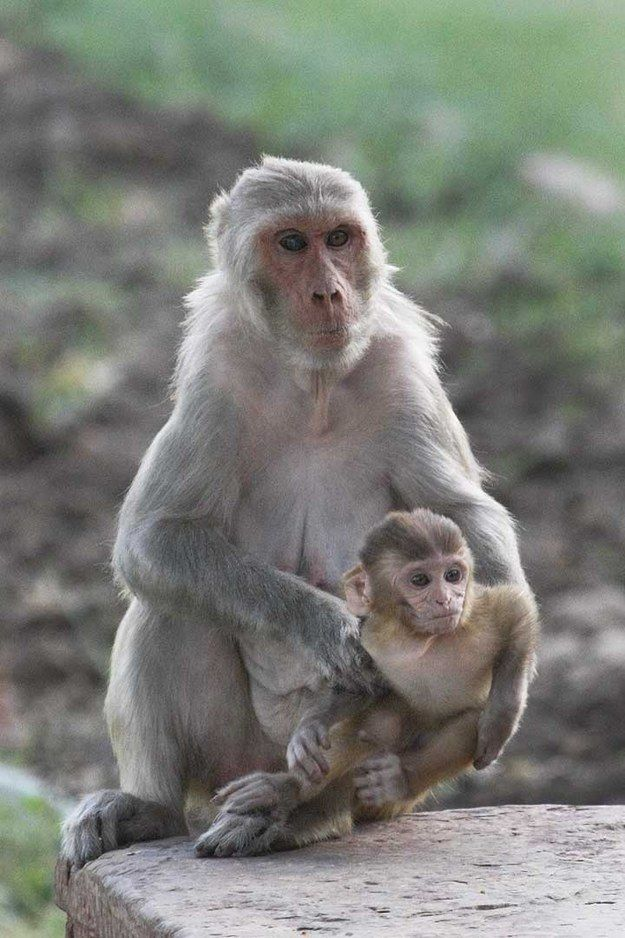monkey: (79, 155, 522, 872), (218, 517, 540, 870)
